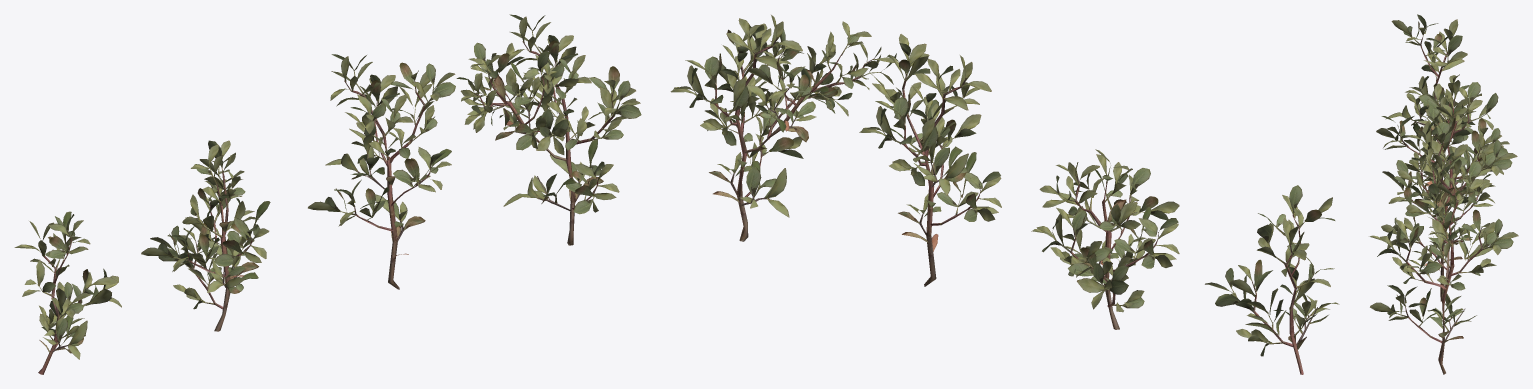
Rendered from shrub_04.glb.
The picture shows the model from 3 angles, left to right: view 1: azimuth 30°, elevation 25°; view 2: azimuth 150°, elevation 25°; view 3: azimuth 270°, elevation 25°; orthographic projection. The views are drawn at different scales.
Parts seen in each view (by area): view 1: shrub_04; view 2: shrub_04; view 3: shrub_04.
Part boxes in pixels (x1,y1,x2,y2): shrub_04: (14, 14, 641, 374); shrub_04: (670, 15, 1339, 374); shrub_04: (1369, 14, 1518, 374).
Bounding box in the file's own units: 0.5831 × 0.2186 × 0.1459.
Materials: 1 (1 with a texture image).
